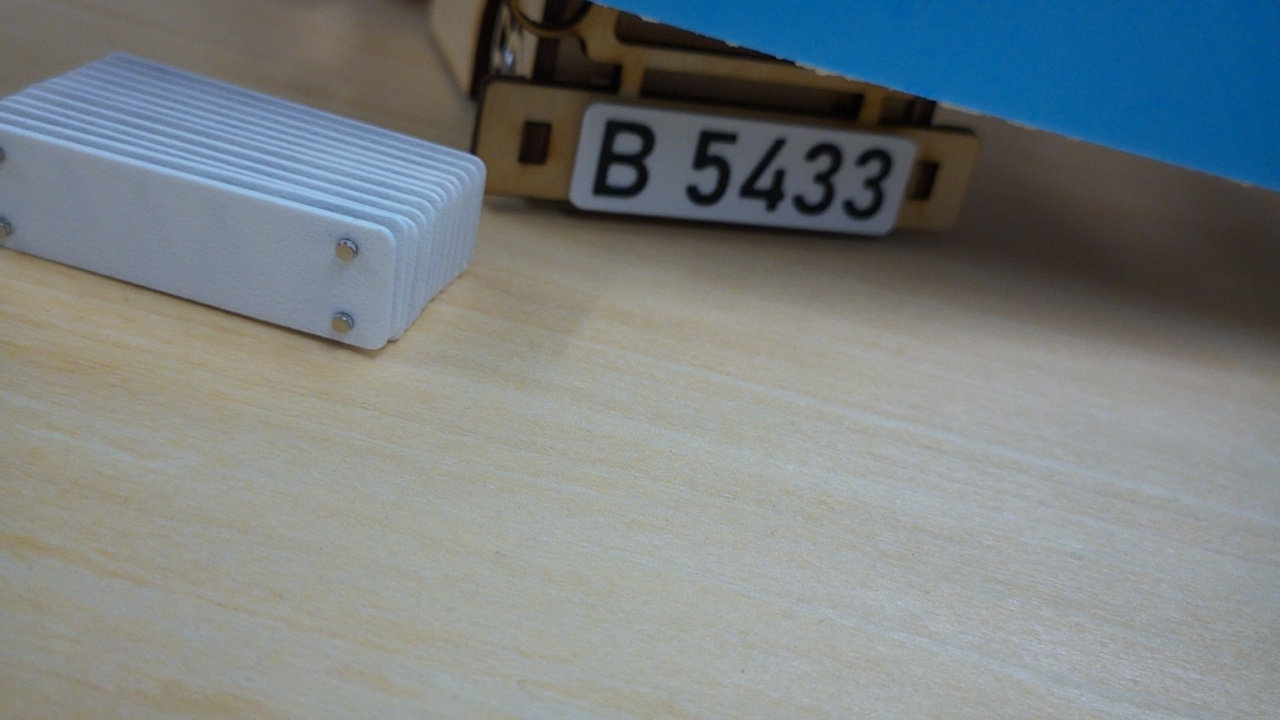license_plate: (568, 98, 920, 239)
